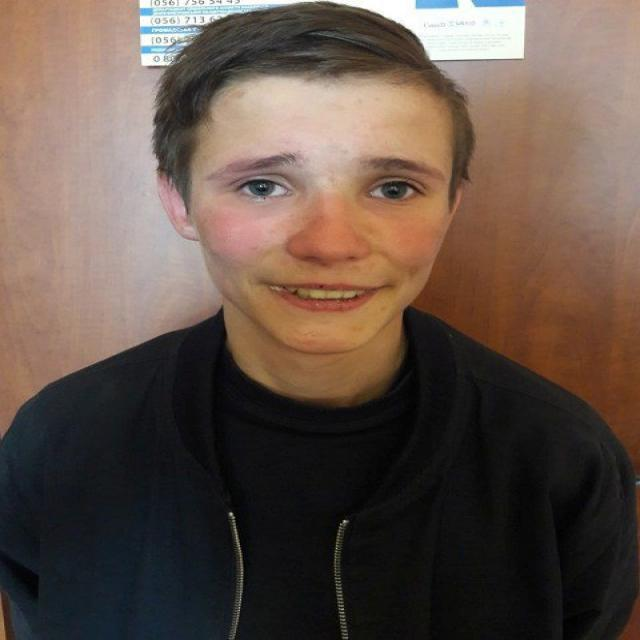earlobe: (174, 215, 203, 242)
eye: (367, 176, 428, 204), (235, 175, 296, 202)
nose: (288, 249, 372, 283)
wholeear: (154, 165, 204, 242)
